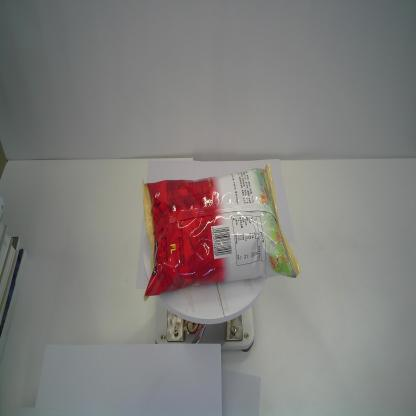Puffed Food: (142, 162, 301, 302)
